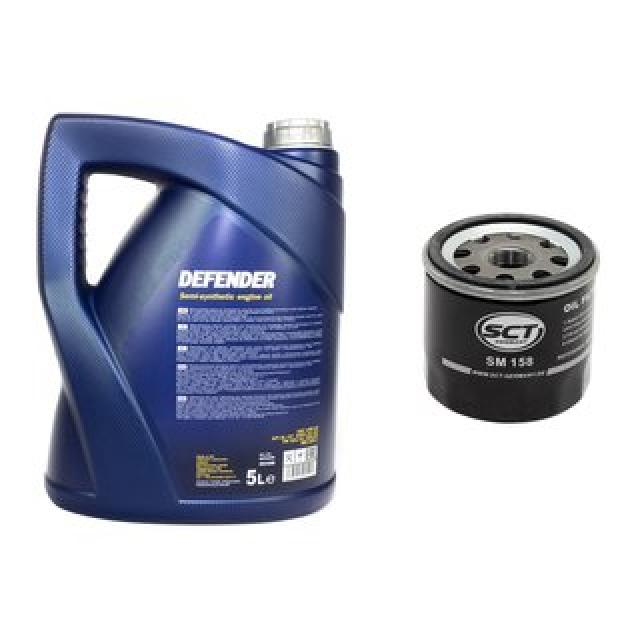motor_oil: (30, 102, 353, 530)
oil_filter: (423, 204, 602, 426)
